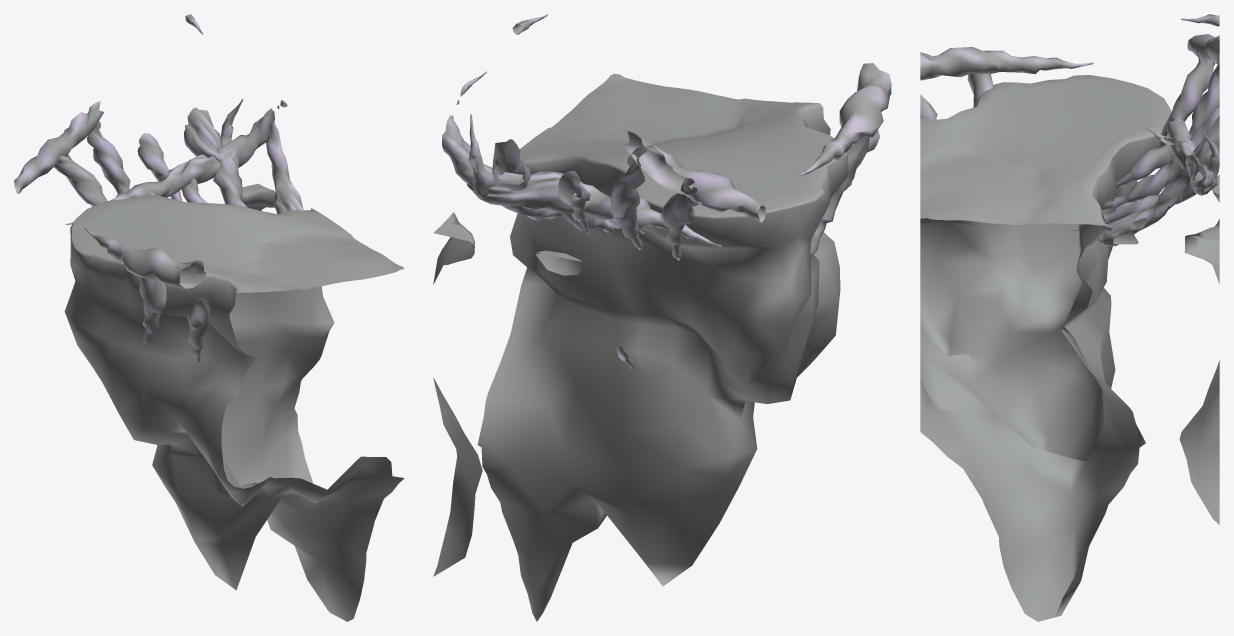
The picture shows the model from 3 angles, left to right: view 1: azimuth 30°, elevation 25°; view 2: azimuth 150°, elevation 25°; view 3: azimuth 270°, elevation 25°; orthographic projection. The views are drawn at different scales.
Visible parts, largest first — view 1: G:\FFXIV-MapTools\exports\a2f2\bg\ex1\03_abr_a2\fld\a2f2\bgp (×7); view 2: G:\FFXIV-MapTools\exports\a2f2\bg\ex1\03_abr_a2\fld\a2f2\bgp (×7); view 3: G:\FFXIV-MapTools\exports\a2f2\bg\ex1\03_abr_a2\fld\a2f2\bgp (×7).
Part boxes in pixels (bbox=[...]): G:\FFXIV-MapTools\exports\a2f2\bg\ex1\03_abr_a2\fld\a2f2\bgp (×7): bbox=[14, 14, 404, 621]; G:\FFXIV-MapTools\exports\a2f2\bg\ex1\03_abr_a2\fld\a2f2\bgp (×7): bbox=[433, 14, 891, 621]; G:\FFXIV-MapTools\exports\a2f2\bg\ex1\03_abr_a2\fld\a2f2\bgp (×7): bbox=[920, 14, 1219, 621].
Bounding box in the file's own units: 128 × 270 × 128.
